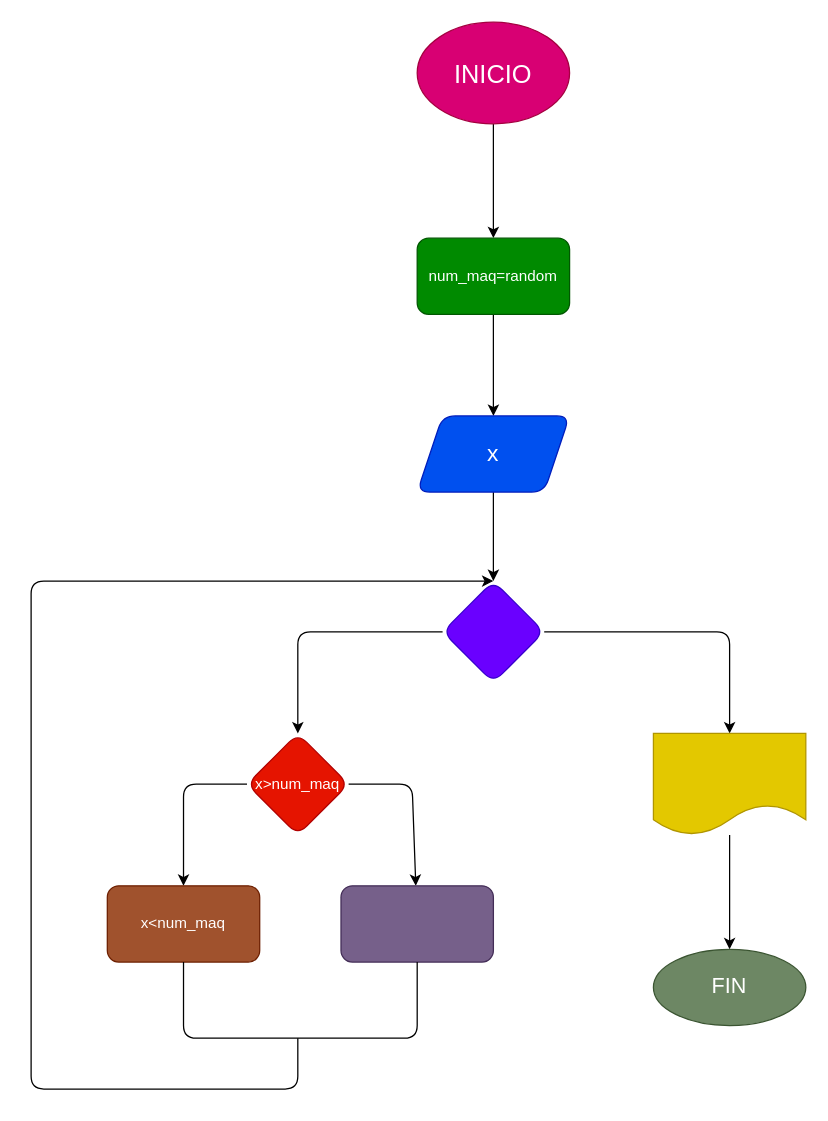
Some shapes in this 828 by 1121 pixel diagram are drawn without their labels. The shapes that lost their labels are listed below. From the top down, each one's box as (x1, y1, x2, y2) in pixels, then its label:
(441, 580, 544, 683): x==num_maq
(652, 732, 806, 835): num_maq
(340, 885, 493, 962): try
